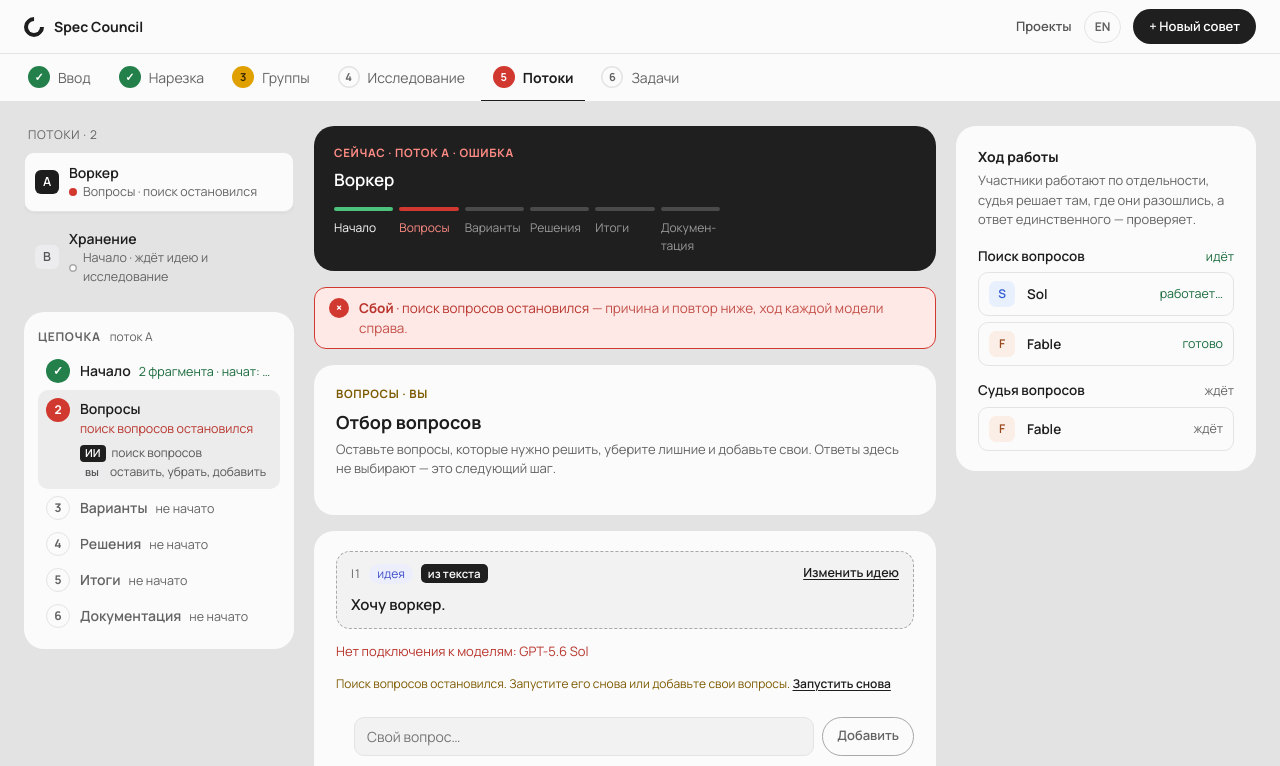
it: Поток: начало и вопросы › поиск вопросов упал — причина, повтор; своими вопросами отбор всё равно возможен
Expected: the message "Нет подключения к моделям: GPT-5.6 Sol" is shown, [336, 642, 588, 660]
Type "Свой" into the field labelled "Свой вопрос…" at [584, 736], box [354, 716, 814, 756]
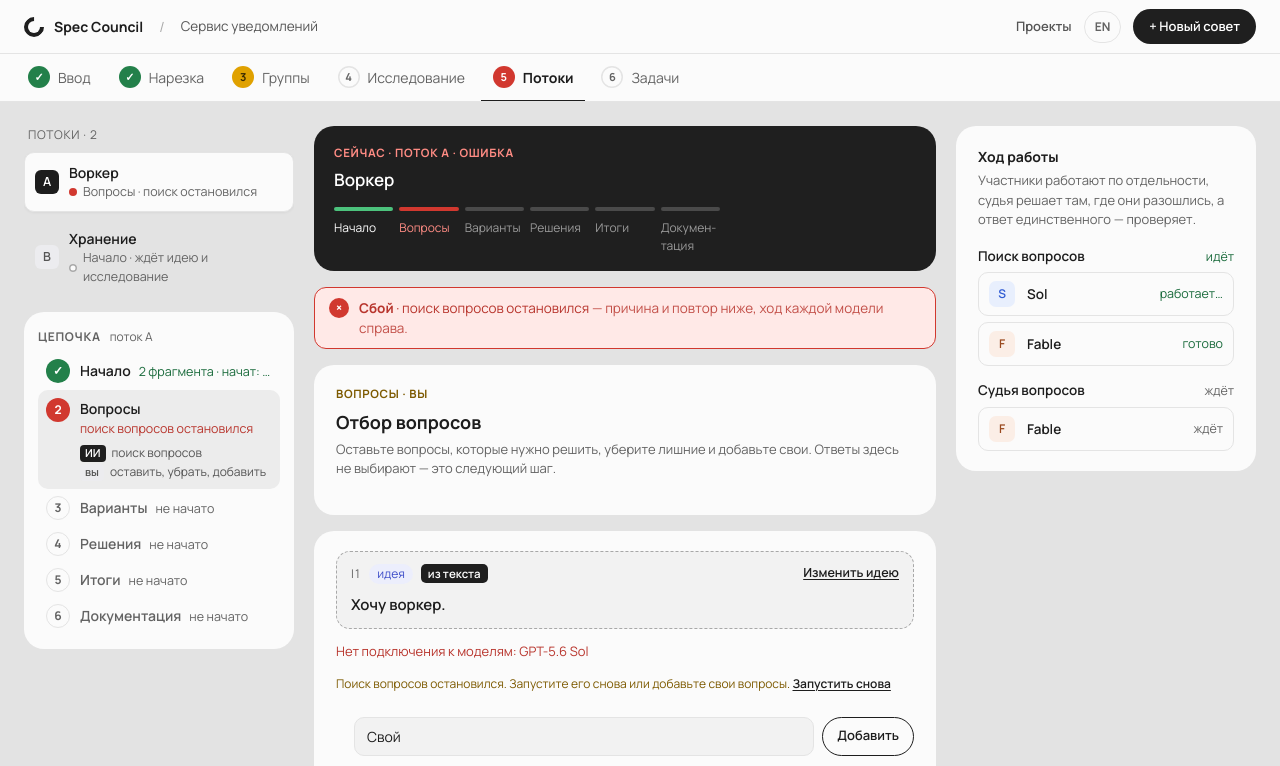
Click the button "Добавить" at [868, 736], box [822, 716, 914, 756]
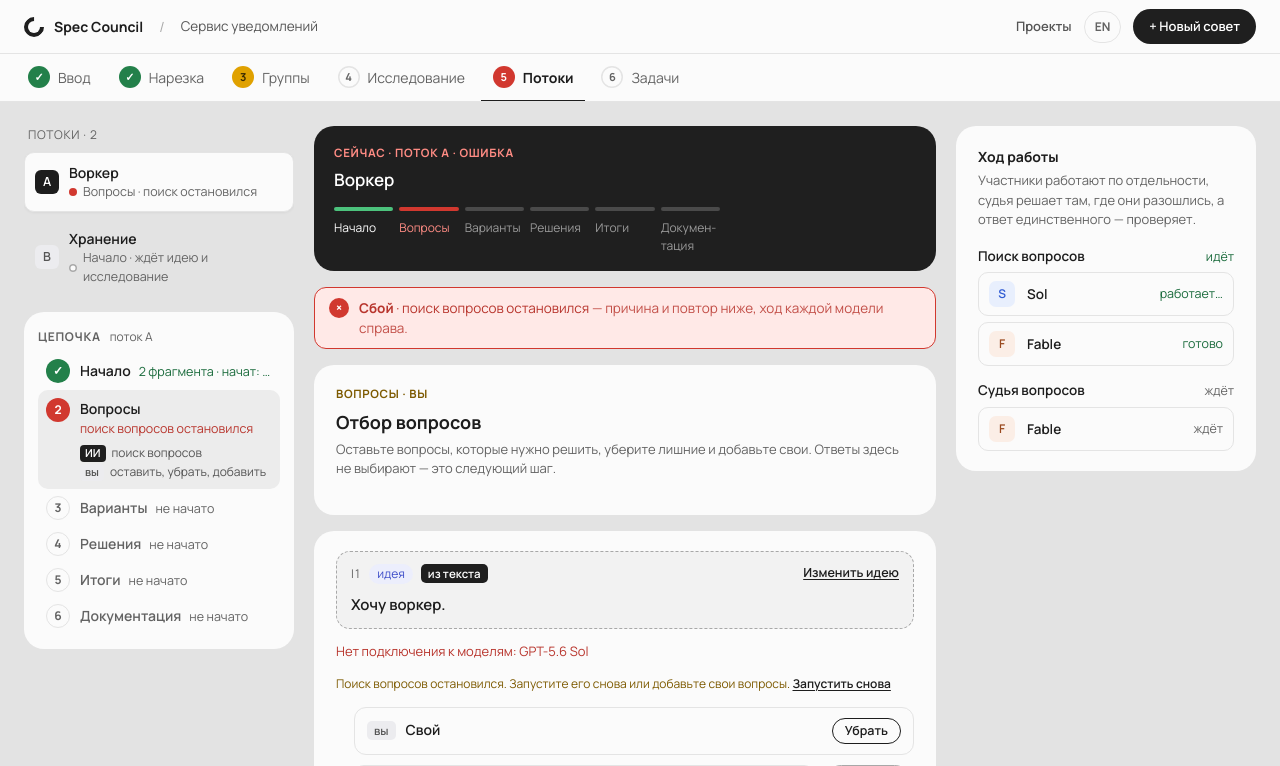
Click the button "Запустить снова" at [842, 684], box [792, 674, 891, 692]
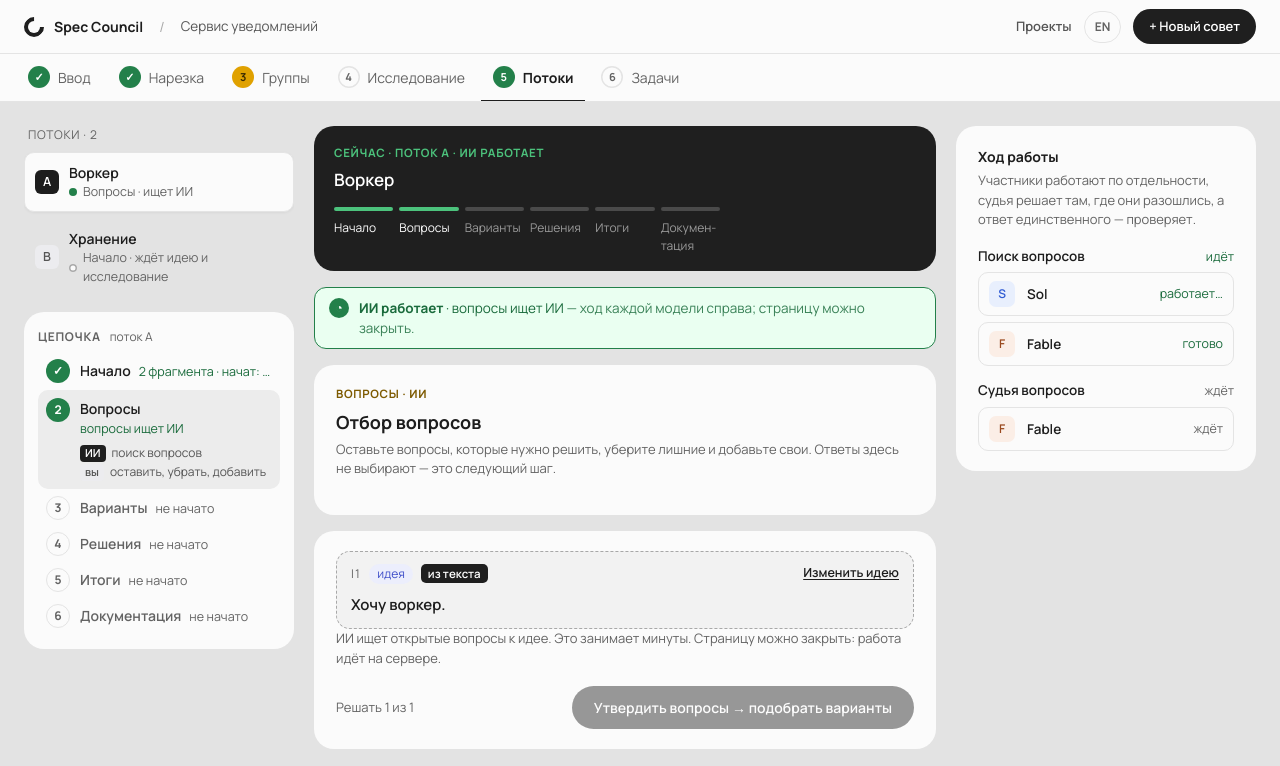
Now the text "ИИ ищет открытые вопросы к идее." is shown, box [336, 629, 552, 647]
